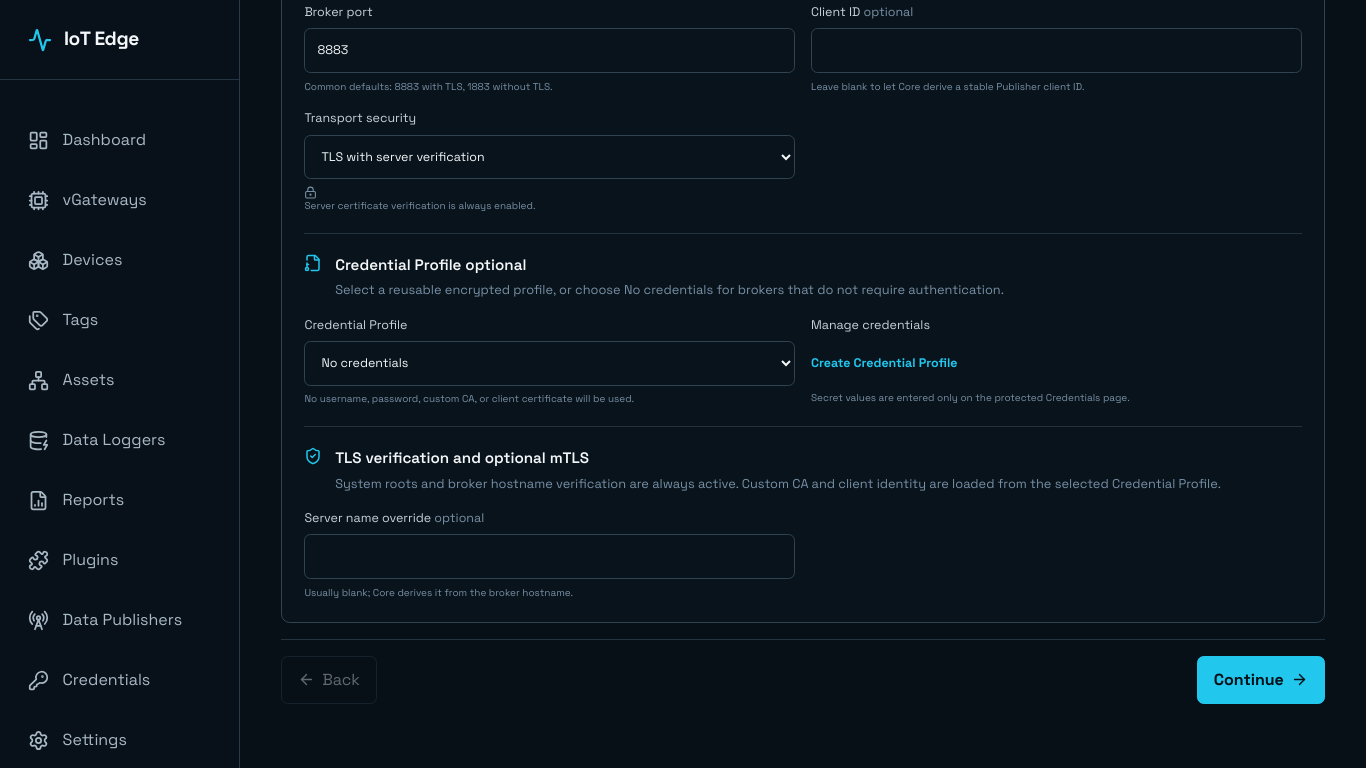
Test: MQTTPublisherWizardPage › adds an Energy output when randomUUID is unavailable
(page scrolled)
Click the button "Continue": [1261, 680] box left=1197, top=656, right=1325, bottom=704
(page scrolled)
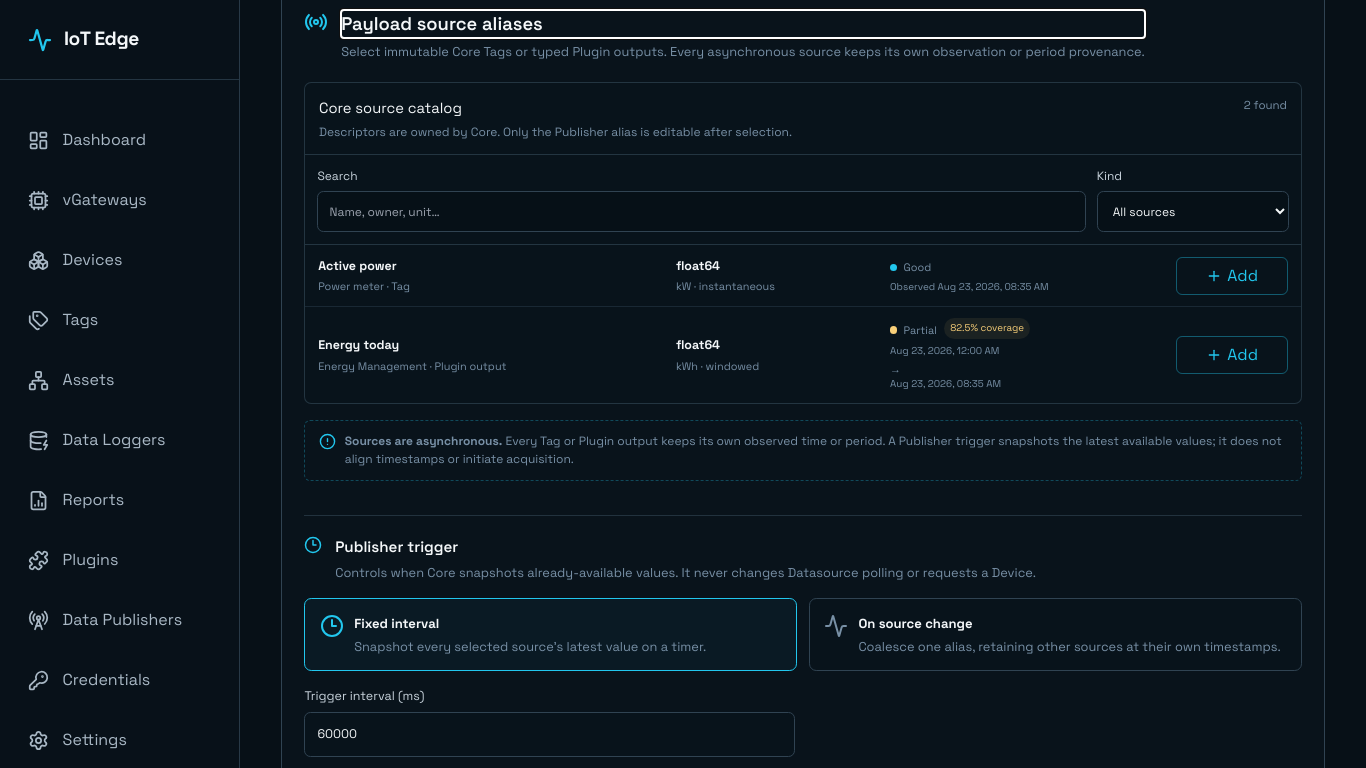
Result: the text "Energy today" is shown at left=318, top=338, right=399, bottom=354
Click the button "Add" in the row of "Aug 23, 2026, 12:00 AM": [1232, 355] box left=1176, top=336, right=1288, bottom=374
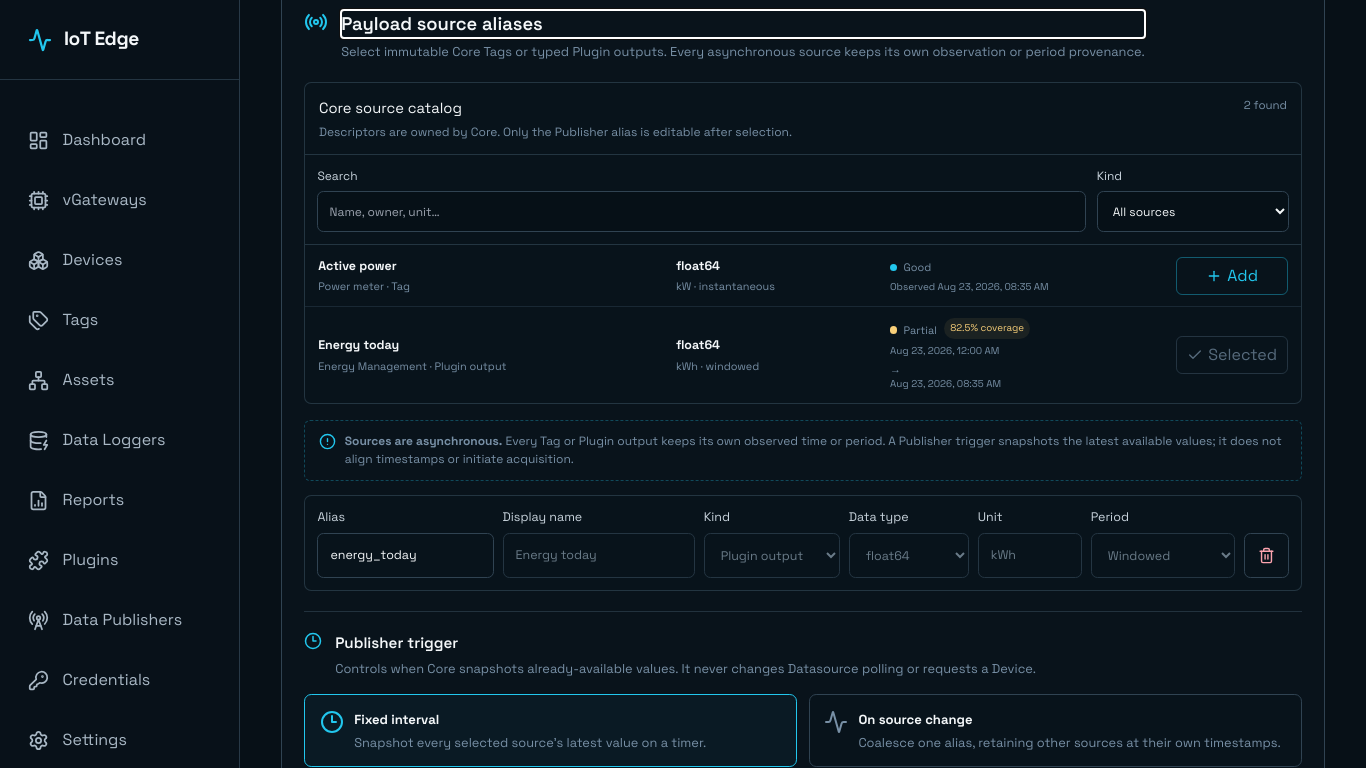
Result: the field named "Alias for Energy today" holds "energy_today" at left=317, top=534, right=494, bottom=578
Result: the dropdown named "Period for energy_today" shows "Windowed" at left=1091, top=534, right=1235, bottom=578
Result: the dropdown named "Period for energy_today" is disabled at left=1091, top=534, right=1235, bottom=578
